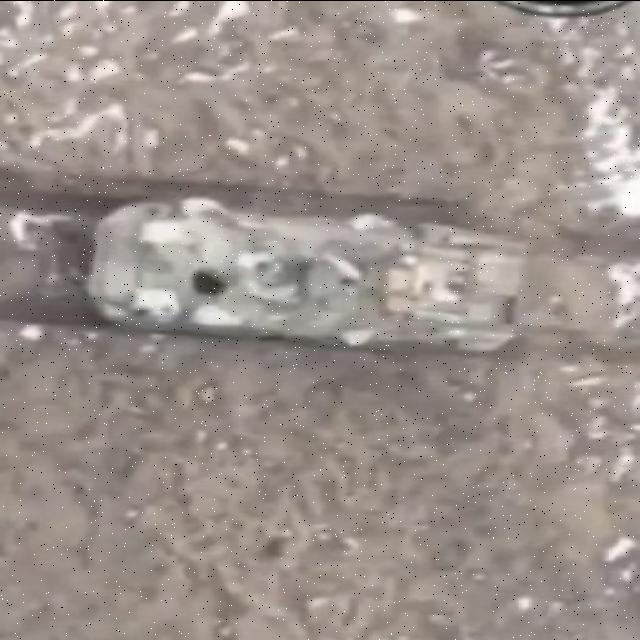APC-IFV: (91, 188, 553, 354)
